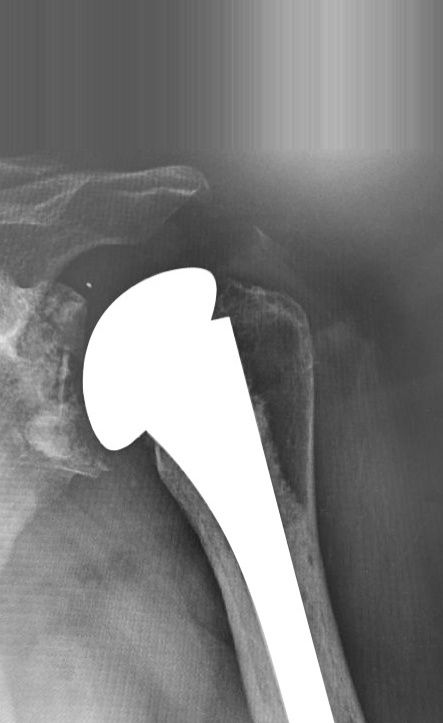Shoulder - Anotomical - Stryker: (78, 261, 276, 458)
